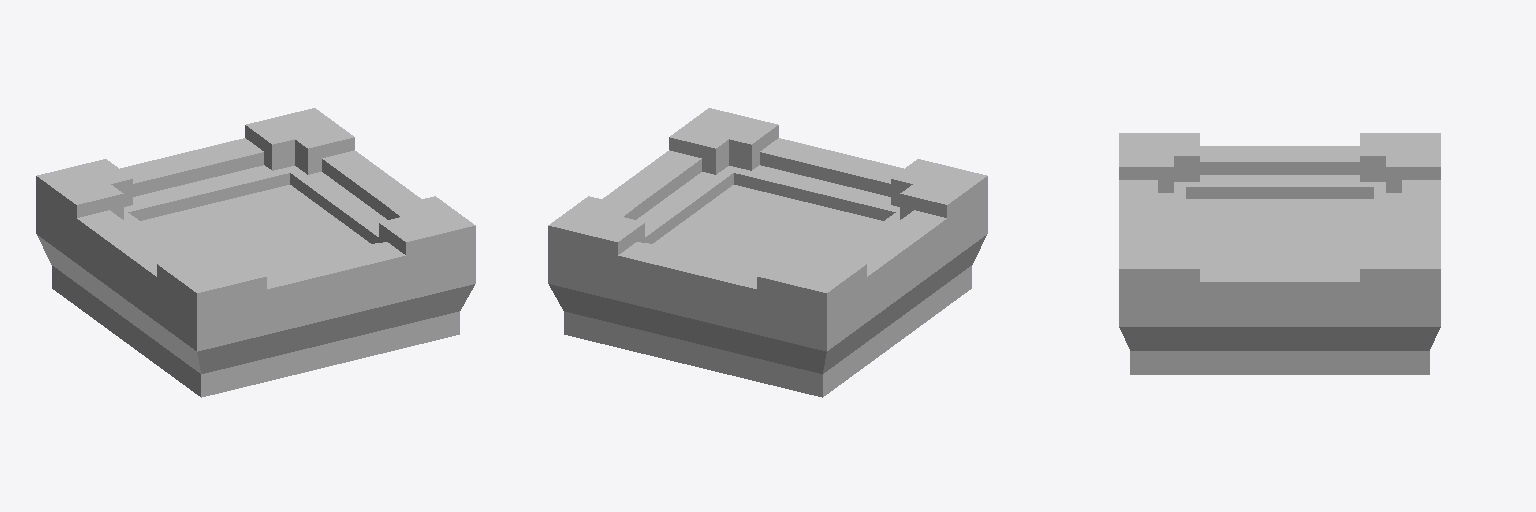
The model's file is towerSquareTopColor.obj.
The picture shows the model from 3 angles: view 1: azimuth 30°, elevation 25°; view 2: azimuth 150°, elevation 25°; view 3: azimuth 270°, elevation 25°; orthographic projection.
Parts seen in each view (by area): view 1: towerSquareTopColor; view 2: towerSquareTopColor; view 3: towerSquareTopColor.
Part boxes in pixels (x1,y1,x2,y2): towerSquareTopColor: (36,108,475,397); towerSquareTopColor: (548,108,987,397); towerSquareTopColor: (1119,133,1440,374).
Bounding box in the file's own units: 10 × 3.8 × 10.